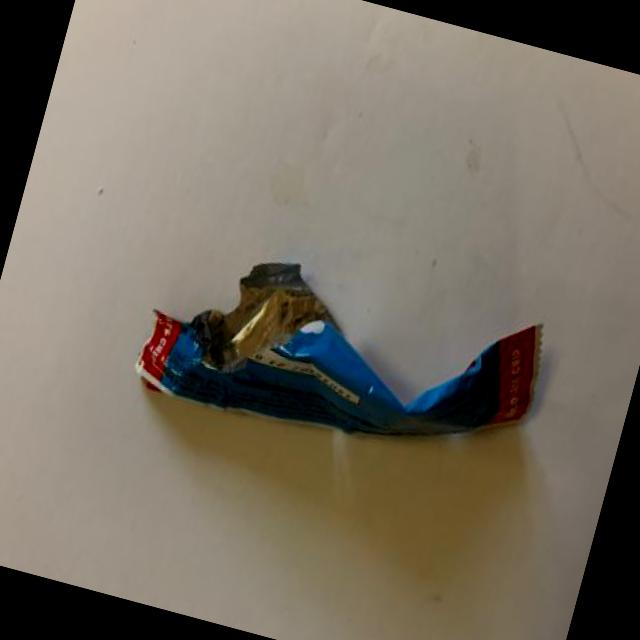Trash: (129, 223, 555, 490)
